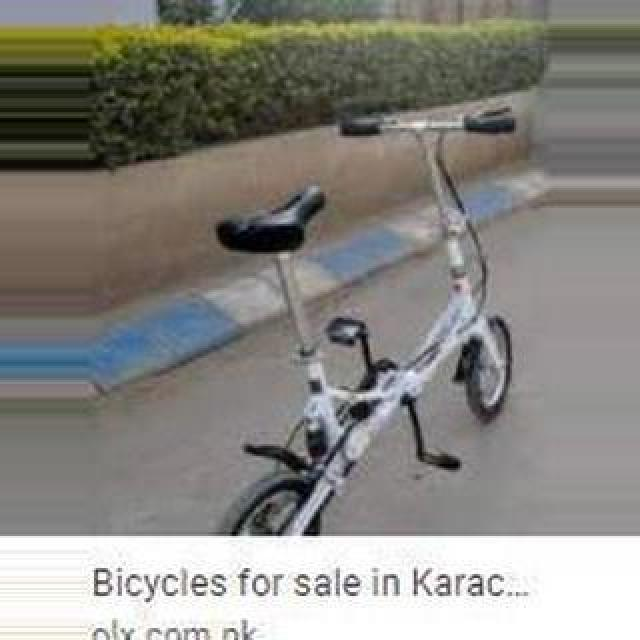Person: (191, 107, 527, 535)
